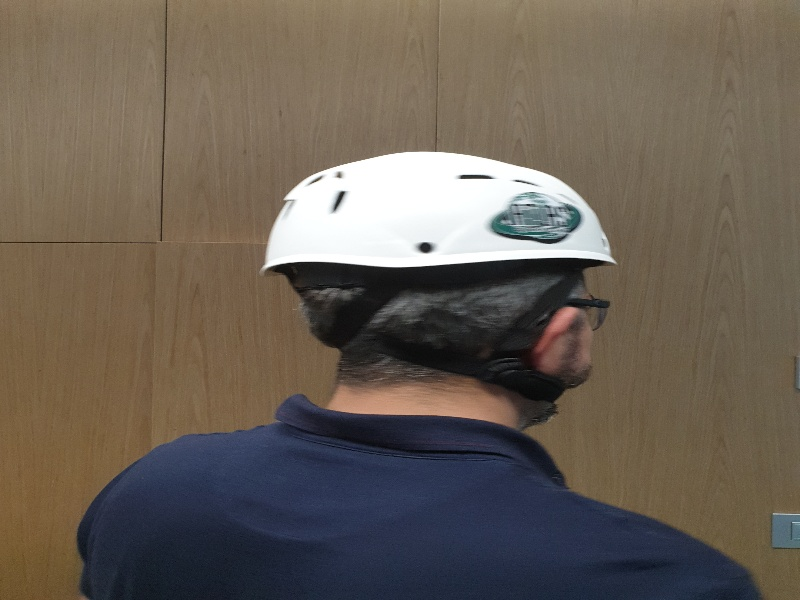Baret: (260, 153, 616, 266)
